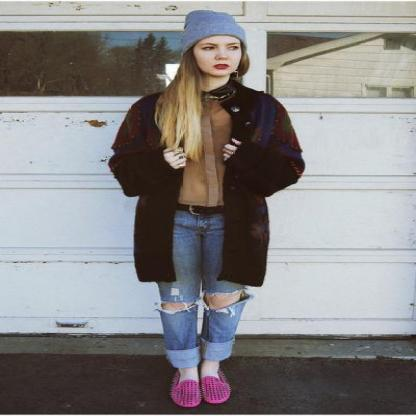hat: (169, 10, 261, 41)
jacket: (108, 75, 305, 288)
pants: (155, 210, 242, 374)
shirt: (179, 95, 234, 207)
shoe: (169, 375, 231, 406)
